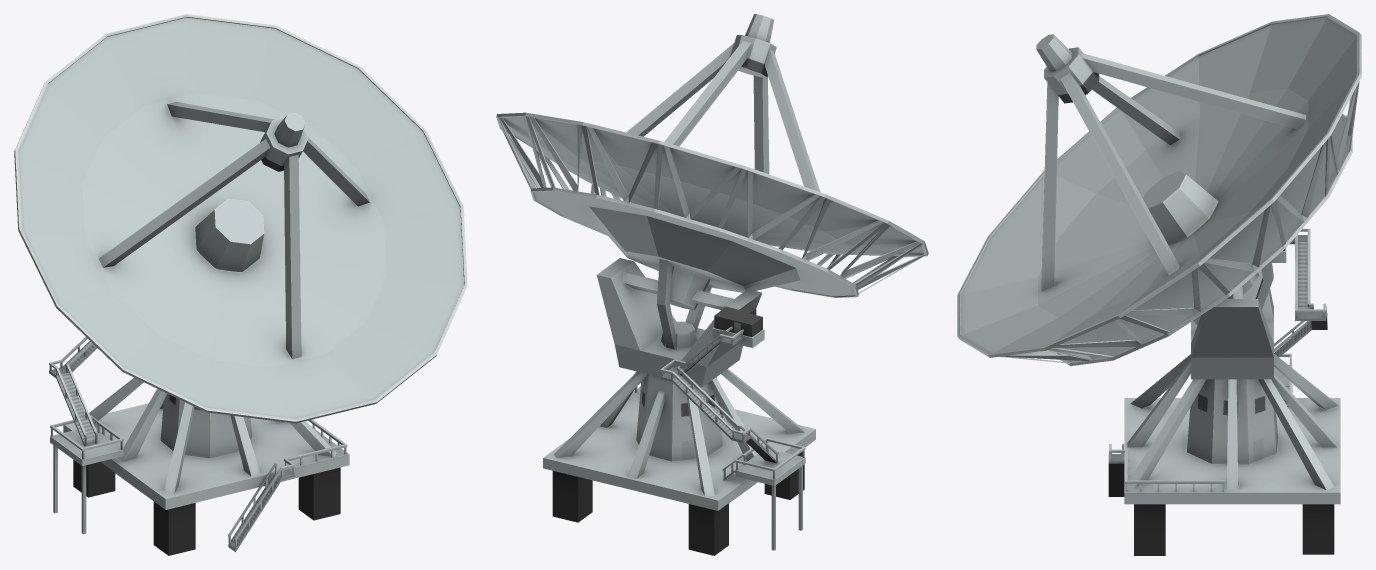
Rendered from SatelliteDish.glb.
3 views of the same model, side by side, from view 1: azimuth 30°, elevation 25°; view 2: azimuth 150°, elevation 25°; view 3: azimuth 270°, elevation 25° (orthographic). The views are drawn at different scales.
Visible parts, largest first — view 1: SatelliteDish_Mesh; view 2: SatelliteDish_Mesh; view 3: SatelliteDish_Mesh.
Part boxes in pixels (x1=…): SatelliteDish_Mesh: x1=14, y1=14, x2=467, y2=555; SatelliteDish_Mesh: x1=496, y1=14, x2=928, y2=555; SatelliteDish_Mesh: x1=957, y1=14, x2=1361, y2=555.
Size of the model in its own units: 16.37 by 17.35 by 13.36.
Materials: 1 (1 with a texture image).
